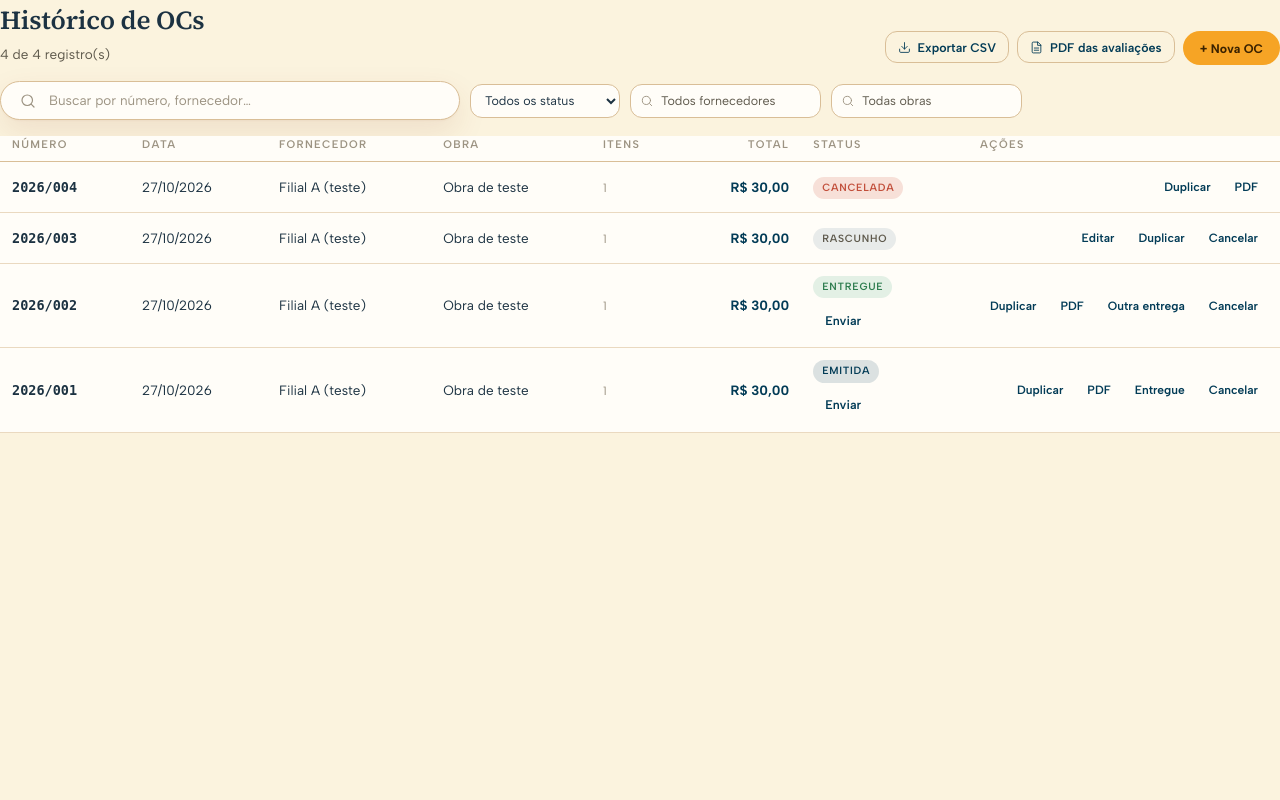
Test: D604 §3.2 — o "Entregue" abre a avaliação › clicar em "Entregue" não grava nada sozinho: abre a caixa, com o dia de hoje no recebimento
Click the button "Entregue" at [1160, 390], box [1125,376,1195,404]
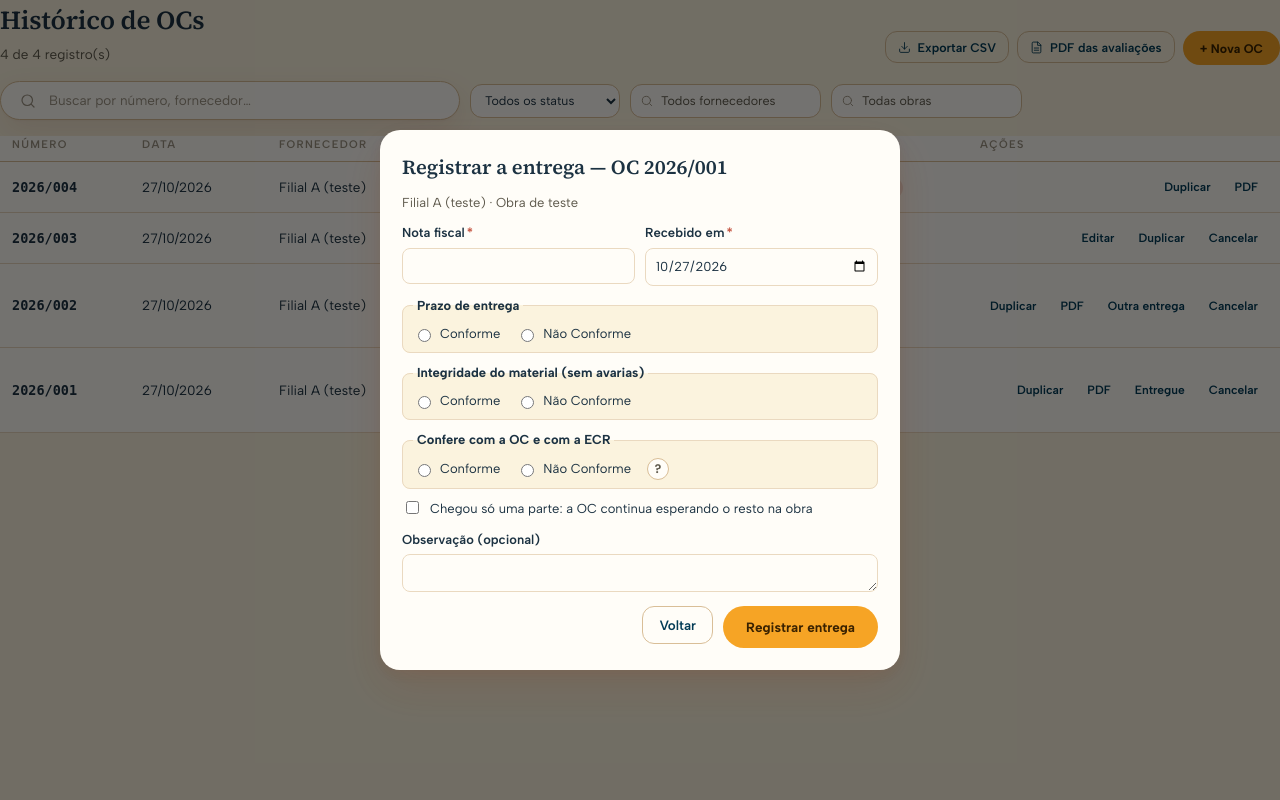
Result: the element that starts with "Registrar a entrega" shows "Registrar a entrega — OC 2026/001" at [380,130,900,670]
